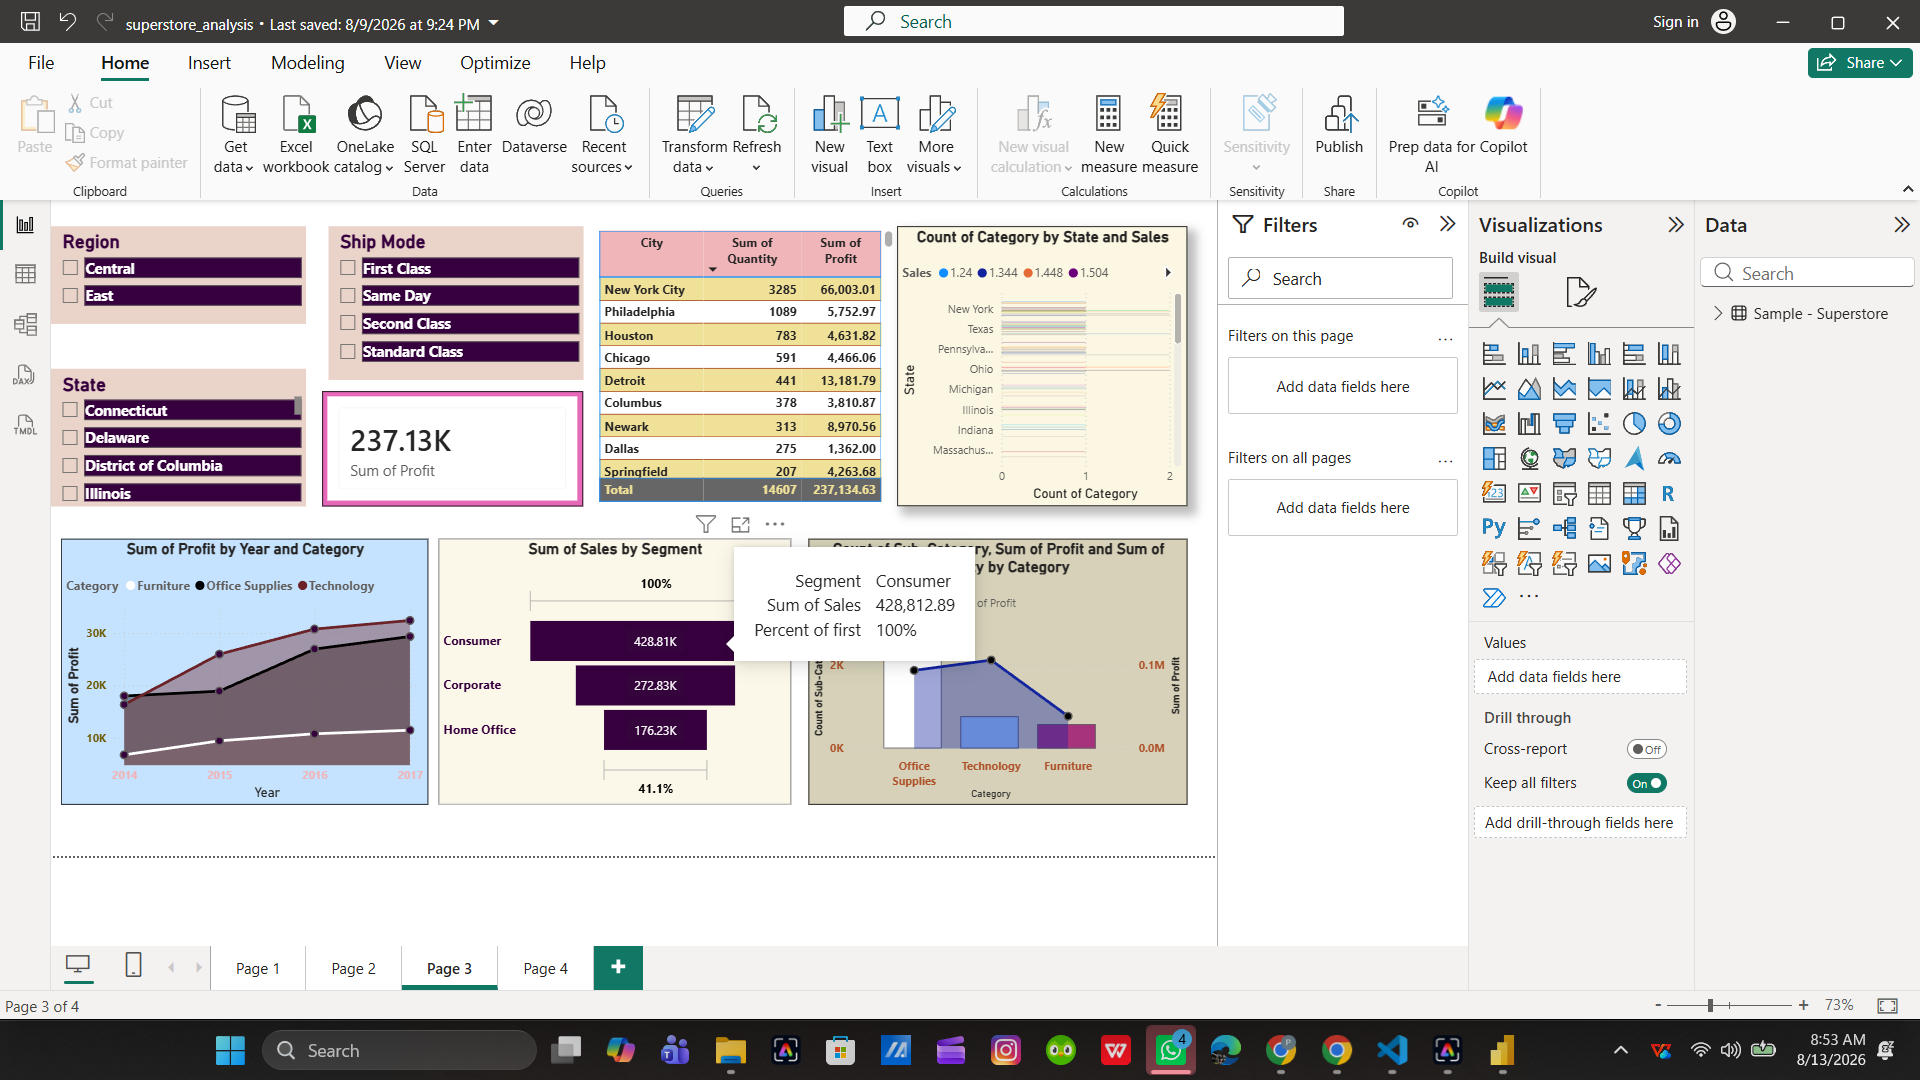

The page's visual inventory and layout, read from the dashboard file:
{"tool":"powerbi","page":{"name":"Page 3","canvas":[1280,720],"ordinal":2},"visuals":[{"type":"slicer","fields":{"Values":["Sample - Superstore.Region"]},"box":[0,28.8,279.9,107],"z":0},{"type":"slicer","fields":{"Values":["Sample - Superstore.State"]},"box":[0,185.2,279.9,150.9],"z":1000},{"type":"slicer","fields":{"Values":["Sample - Superstore.Ship Mode"]},"box":[304.6,28.8,279.9,168.8],"z":2000},{"type":"tableEx","fields":{"Values":["Sample - Superstore.City","Sum(Sample - Superstore.Quantity)","Sum(Sample - Superstore.Profit)"]},"box":[595.5,28.8,333.4,307.4],"z":3000},{"type":"clusteredBarChart","fields":{"Series":["Sample - Superstore.Sales"],"Category":["Sample - Superstore.State"],"Y":["CountNonNull(Sample - Superstore.Category)"]},"box":[929,28.8,318.4,307.4],"z":4000},{"type":"areaChart","fields":{"Category":["Sample - Superstore.Order Date.Variation.Date Hierarchy.Year"],"Series":["Sample - Superstore.Category"],"Y":["Sum(Sample - Superstore.Profit)"]},"box":[11,371.9,403.4,292.3],"z":5000},{"type":"cardVisual","fields":{"Data":["Sum(Sample - Superstore.Profit)"]},"box":[297.8,209.9,286.8,126.2],"z":6000},{"type":"lineClusteredColumnComboChart","fields":{"Category":["Sample - Superstore.Category"],"Y":["CountNonNull(Sample - Superstore.Sub-Category)"],"Y2":["Sum(Sample - Superstore.Profit)"]},"box":[831.6,371.9,415.8,292.3],"z":7000},{"type":"funnel","fields":{"Category":["Sample - Superstore.Segment"],"Y":["Sum(Sample - Superstore.Sales)"]},"box":[425.4,371.9,387,292.3],"z":8000}]}

Visuals, with their boxes on the page's 1280x720 design canvas (x1, y1, x2, y2). These are canvas units, not pixel positions in the 1920x1080 screenshot, which may show the page scaled, cropped or inside an application window:
slicer - Sample - Superstore.Region: select_region(0, 29, 280, 136)
slicer - Sample - Superstore.State: select_region(0, 185, 280, 336)
slicer - Sample - Superstore.Ship Mode: select_region(305, 29, 584, 198)
tableEx - Sample - Superstore.City x Sum(Sample - Superstore.Quantity): select_region(596, 29, 929, 336)
clusteredBarChart - Sample - Superstore.Sales x Sample - Superstore.State: select_region(929, 29, 1247, 336)
areaChart - Sample - Superstore.Order Date.Variation.Date Hierarchy.Year x Sample - Superstore.Category: select_region(11, 372, 414, 664)
cardVisual - Sum(Sample - Superstore.Profit): select_region(298, 210, 585, 336)
lineClusteredColumnComboChart - Sample - Superstore.Category x CountNonNull(Sample - Superstore.Sub-Category): select_region(832, 372, 1247, 664)
funnel - Sample - Superstore.Segment x Sum(Sample - Superstore.Sales): select_region(425, 372, 812, 664)
